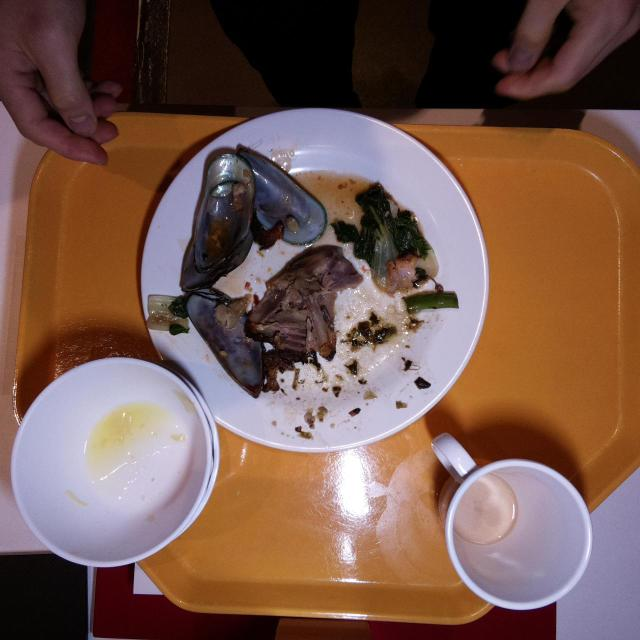Bone: (248, 249, 360, 365)
Mussel-shell: (176, 144, 328, 292), (186, 286, 268, 400)
Vegetable: (352, 182, 430, 265), (401, 289, 461, 313), (168, 296, 189, 336)
